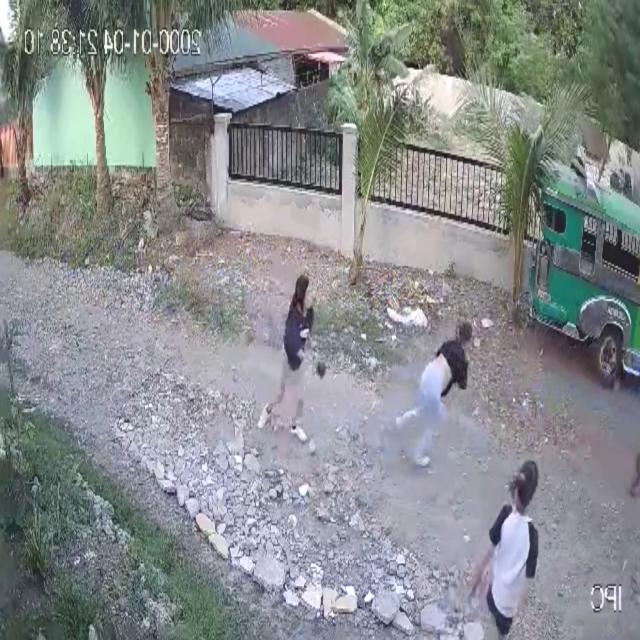running: (382, 313, 477, 472), (462, 460, 544, 640), (254, 270, 332, 446)
